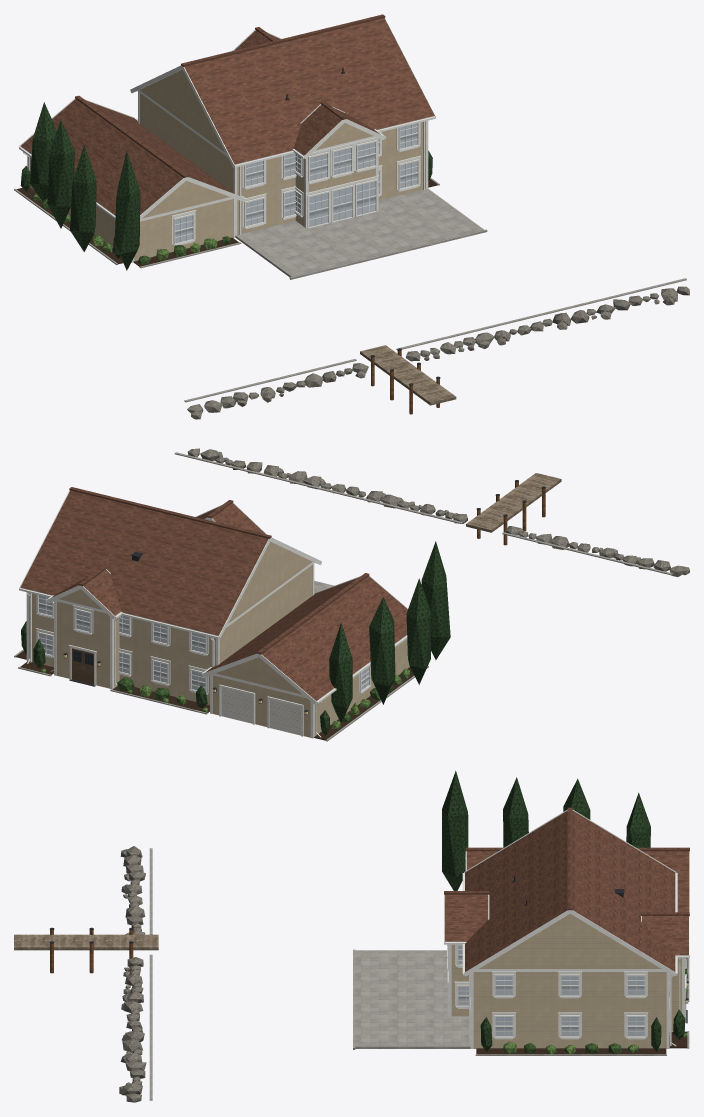
The model's file is lot-8121.fbx.
3 renders of one model, top to bottom at view 1: azimuth 30°, elevation 25°; view 2: azimuth 150°, elevation 25°; view 3: azimuth 270°, elevation 25°, orthographic. The views are drawn at different scales.
Parts seen in each view (by area): view 1: lot-8121_LOD0; view 2: lot-8121_LOD0; view 3: lot-8121_LOD0.
Part boxes in pixels (x1=…): lot-8121_LOD0: x1=14, y1=14, x2=689, y2=419; lot-8121_LOD0: x1=14, y1=448, x2=689, y2=741; lot-8121_LOD0: x1=14, y1=770, x2=689, y2=1102.
Size of what is drawn, in the model's own units: 39.52 by 11.81 by 44.36.
Materials: 2 (2 with a texture image).
